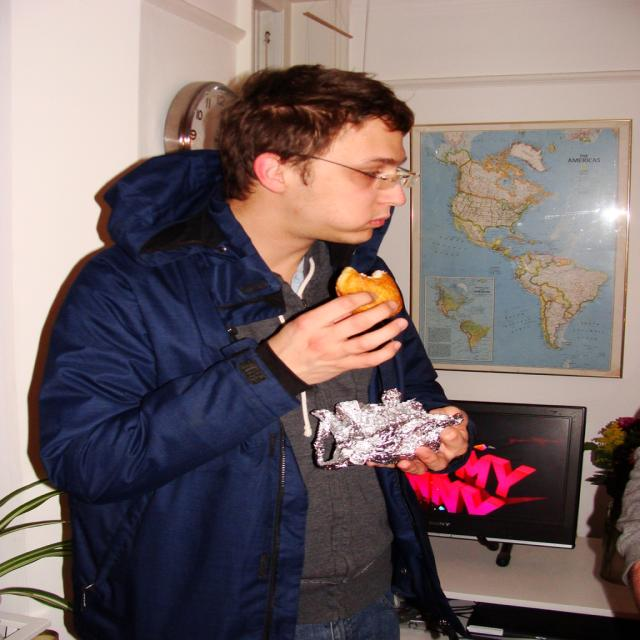no_helmet: (228, 57, 400, 128)
